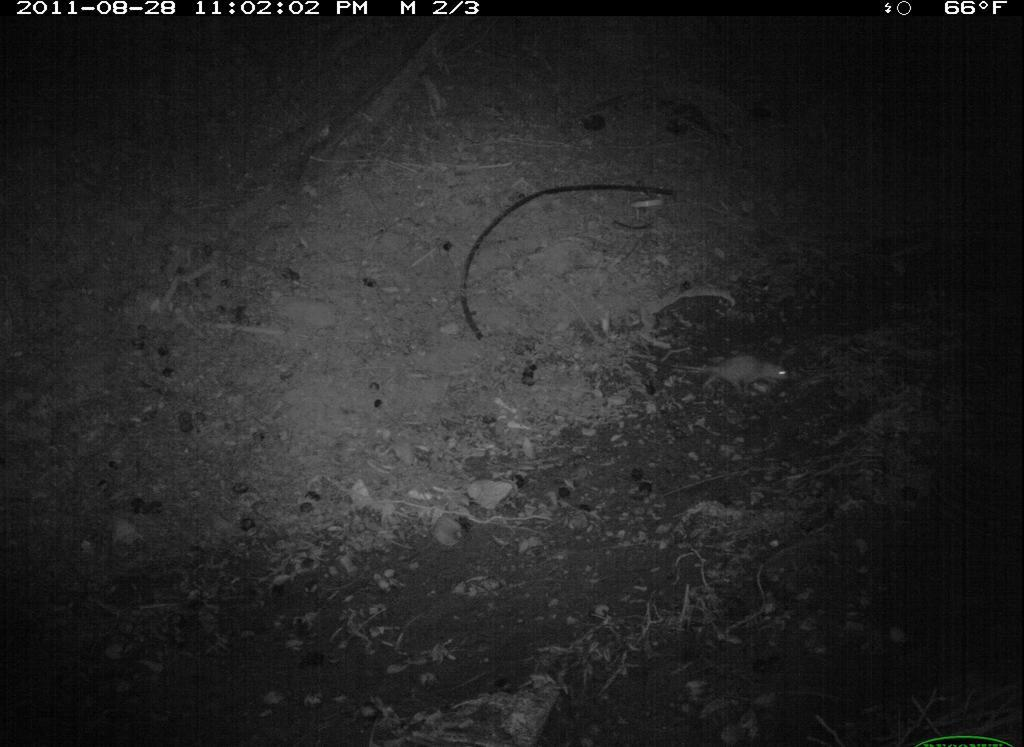opossum: (655, 347, 802, 404)
